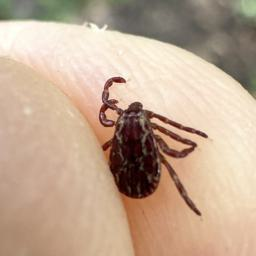Dermacentor variabilis: (99, 73, 206, 217)
